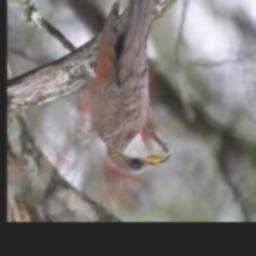Cuckoo: (92, 0, 171, 176)
